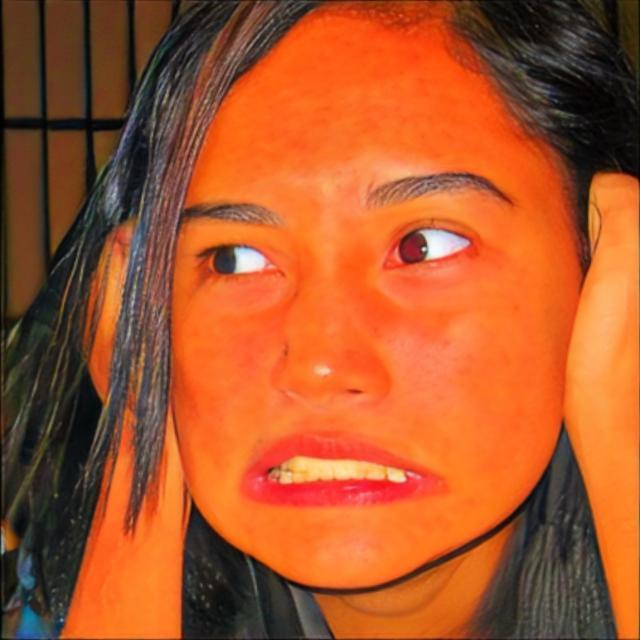fear: (162, 1, 574, 596)
